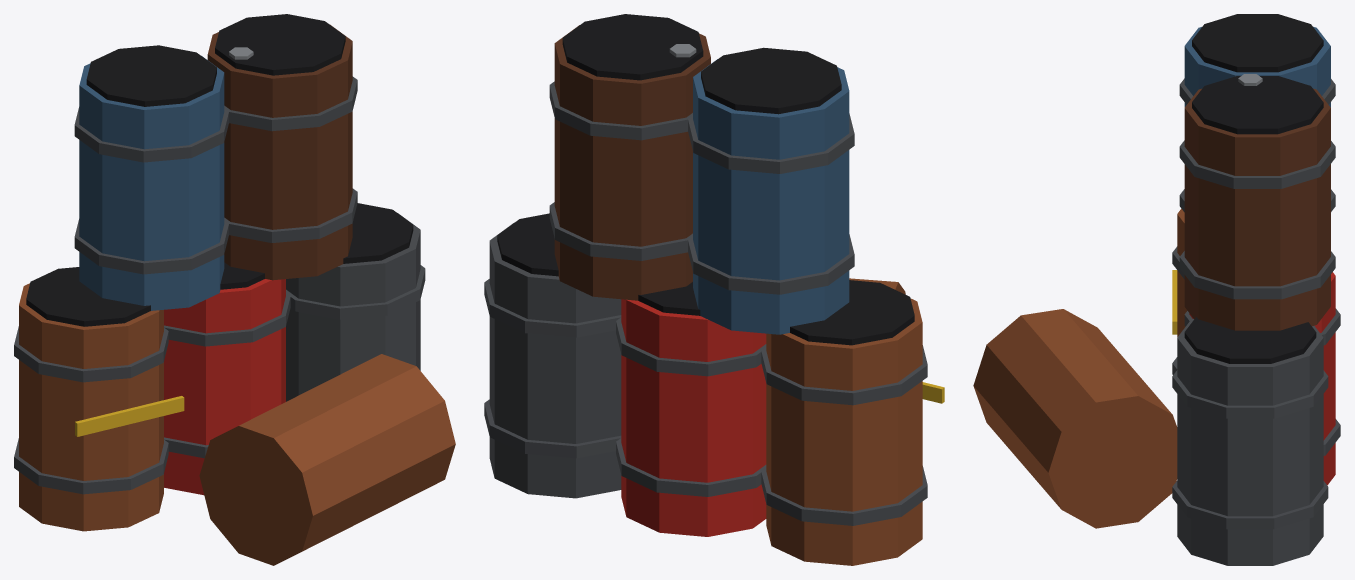
The model's file is lmk_barrel_stack.fbx.
3 views of the same model, side by side, from view 1: azimuth 30°, elevation 25°; view 2: azimuth 150°, elevation 25°; view 3: azimuth 270°, elevation 25° (orthographic). The views are drawn at different scales.
Parts seen in each view (by area): view 1: lmk_barrel_stack; view 2: lmk_barrel_stack; view 3: lmk_barrel_stack.
Boxes of the visible parts, x1=… form: lmk_barrel_stack: x1=14, y1=14, x2=455, y2=565; lmk_barrel_stack: x1=484, y1=14, x2=944, y2=565; lmk_barrel_stack: x1=973, y1=14, x2=1340, y2=565.
Size of the model in its own units: 1.81 by 1.84 by 1.51.
